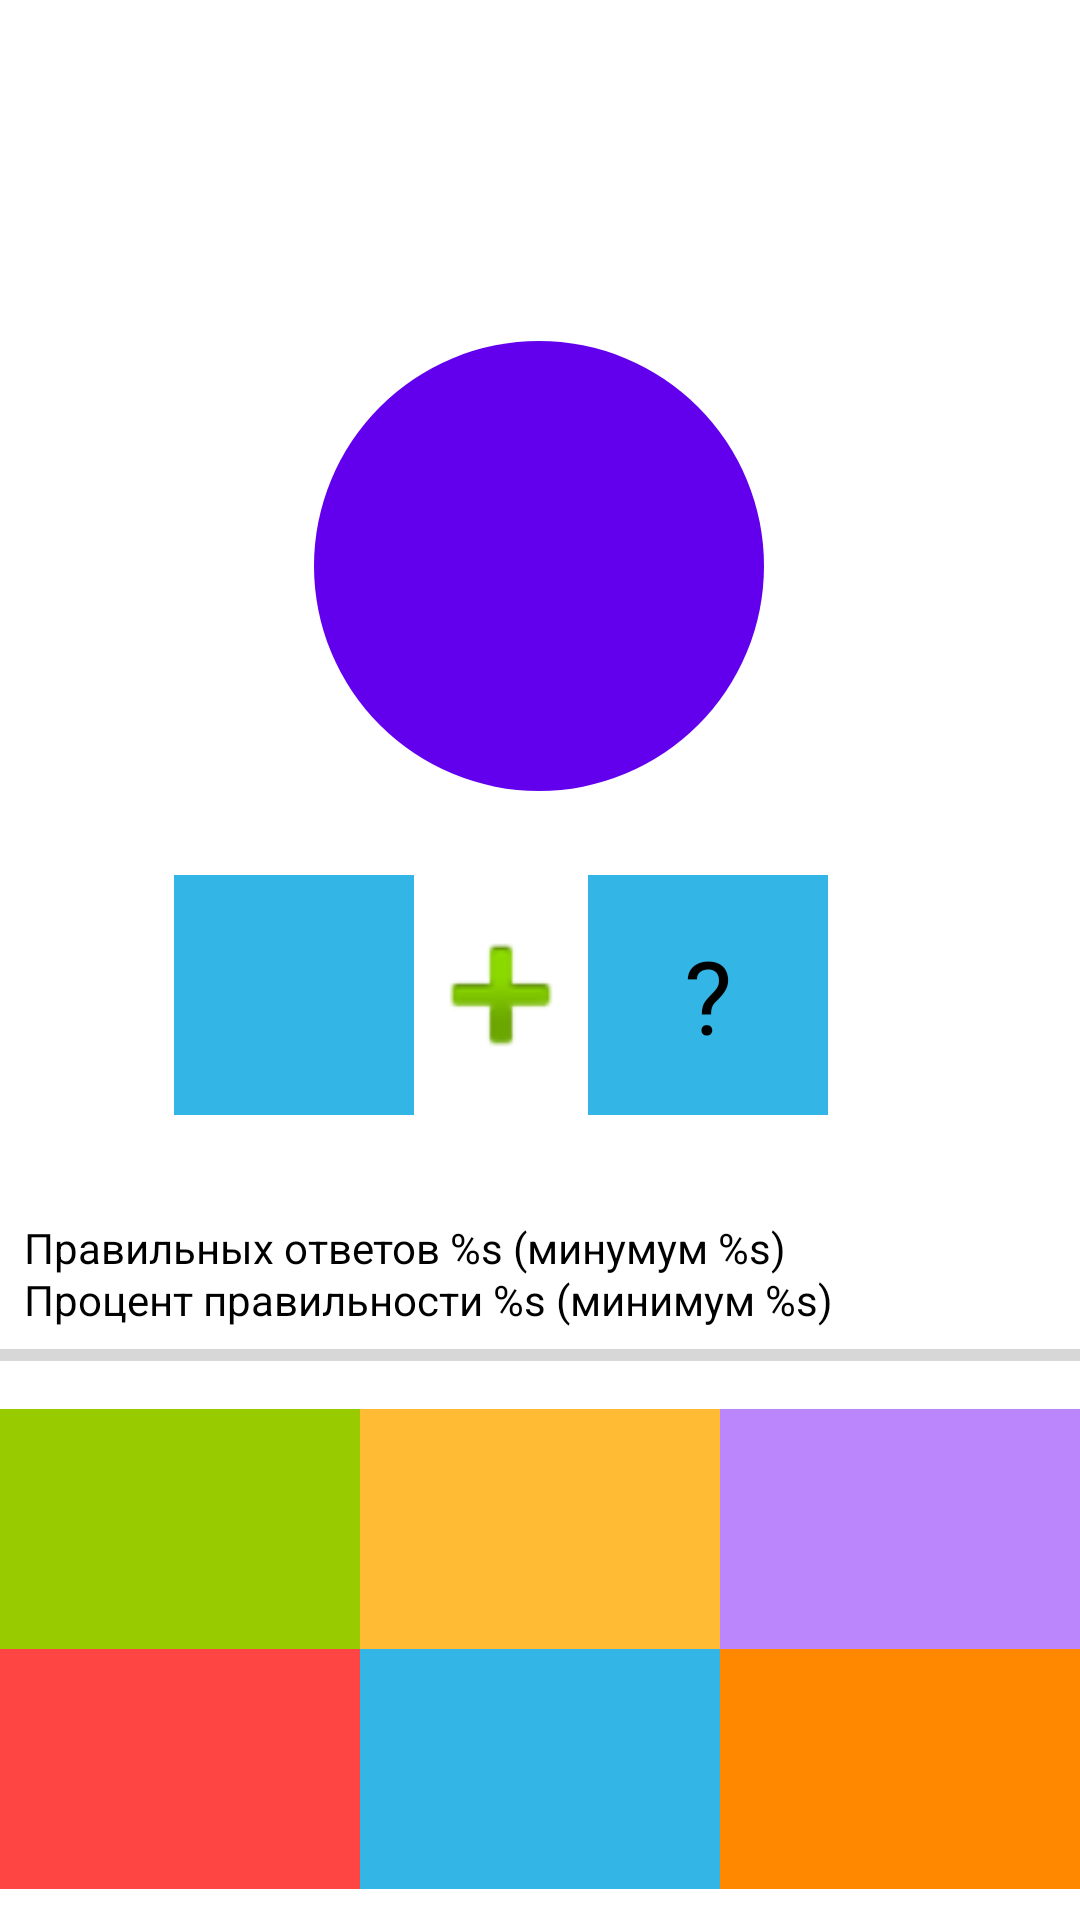

Named icons in this screenshot (1080w x 1920h) and their centers, (x=x, y=y):
plus: (x=501, y=995)
